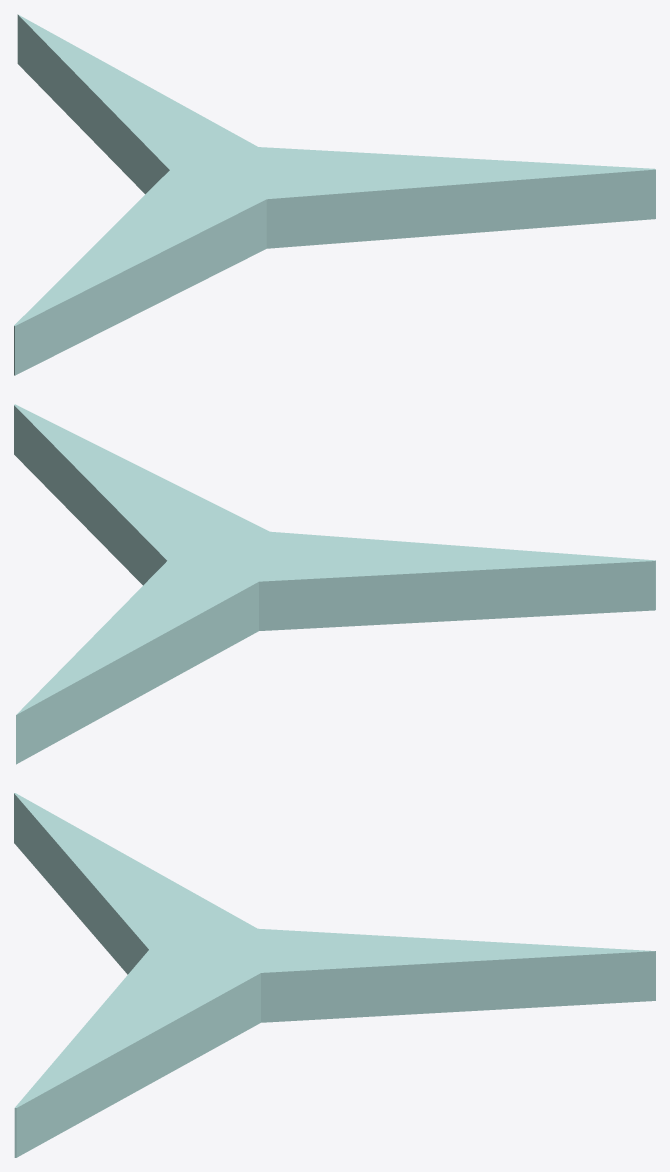
The model's file is Star.3b439152.glb.
The picture shows the model from 3 angles, top to bottom: view 1: azimuth 30°, elevation 25°; view 2: azimuth 150°, elevation 25°; view 3: azimuth 270°, elevation 25°; orthographic projection.
Visible parts, largest first — view 1: Cube; view 2: Cube; view 3: Cube.
Part boxes in pixels (<box>): Cube: <box>14,14,655,375</box>; Cube: <box>14,404,655,764</box>; Cube: <box>14,793,655,1157</box>.
Size of the model in its own units: 0.6791 by 0.0501 by 0.5852.
